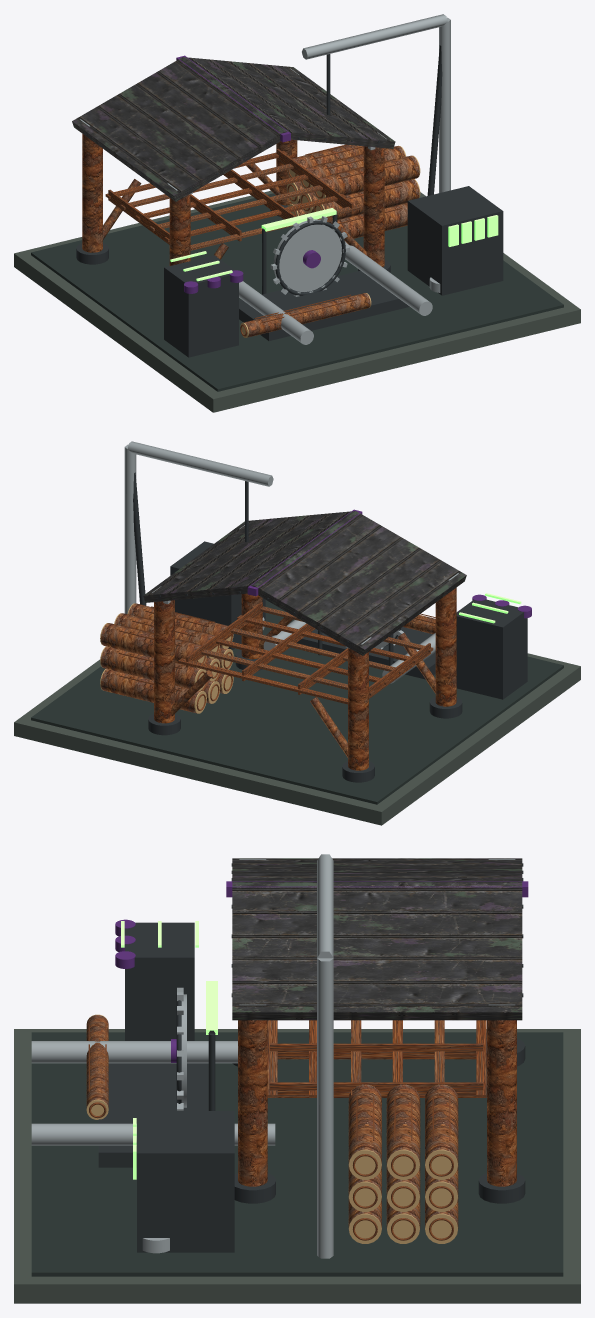
The model's file is timberline_l04.glb.
The picture shows the model from 3 angles, top to bottom: view 1: azimuth 30°, elevation 25°; view 2: azimuth 150°, elevation 25°; view 3: azimuth 270°, elevation 25°; orthographic projection. The views are drawn at different scales.
Visible parts, largest first — view 1: timberline_l04, stone_yard_base, hydraulic_sorter, auto_feed_motor, saw_carriage, circular_saw_blade, saw_safety_light; view 2: timberline_l04, stone_yard_base, auto_feed_motor, hydraulic_sorter, saw_carriage; view 3: timberline_l04, stone_yard_base, hydraulic_sorter, auto_feed_motor, saw_carriage, roof_spine, saw_safety_light, circular_saw_blade.
Boxes of the visible parts, x1,y1,x2,y2 form: timberline_l04: [31, 14, 563, 391]; stone_yard_base: [14, 190, 580, 412]; hydraulic_sorter: [407, 186, 503, 295]; auto_feed_motor: [164, 255, 238, 357]; saw_carriage: [239, 270, 409, 340]; circular_saw_blade: [273, 219, 341, 291]; saw_safety_light: [261, 208, 336, 231]; timberline_l04: [31, 441, 563, 804]; stone_yard_base: [14, 653, 580, 825]; auto_feed_motor: [456, 599, 527, 699]; hydraulic_sorter: [170, 541, 265, 649]; saw_carriage: [296, 627, 435, 679]; timberline_l04: [31, 854, 563, 1276]; stone_yard_base: [14, 1029, 580, 1303]; hydraulic_sorter: [137, 1111, 234, 1252]; auto_feed_motor: [125, 922, 194, 1040]; saw_carriage: [98, 1063, 208, 1167]; roof_spine: [226, 881, 528, 897]; saw_safety_light: [206, 981, 217, 1034]; circular_saw_blade: [181, 994, 186, 1107].
Bounding box in the file's own units: 6.5 × 3.96 × 6.1.
11 materials, 3 textured.
